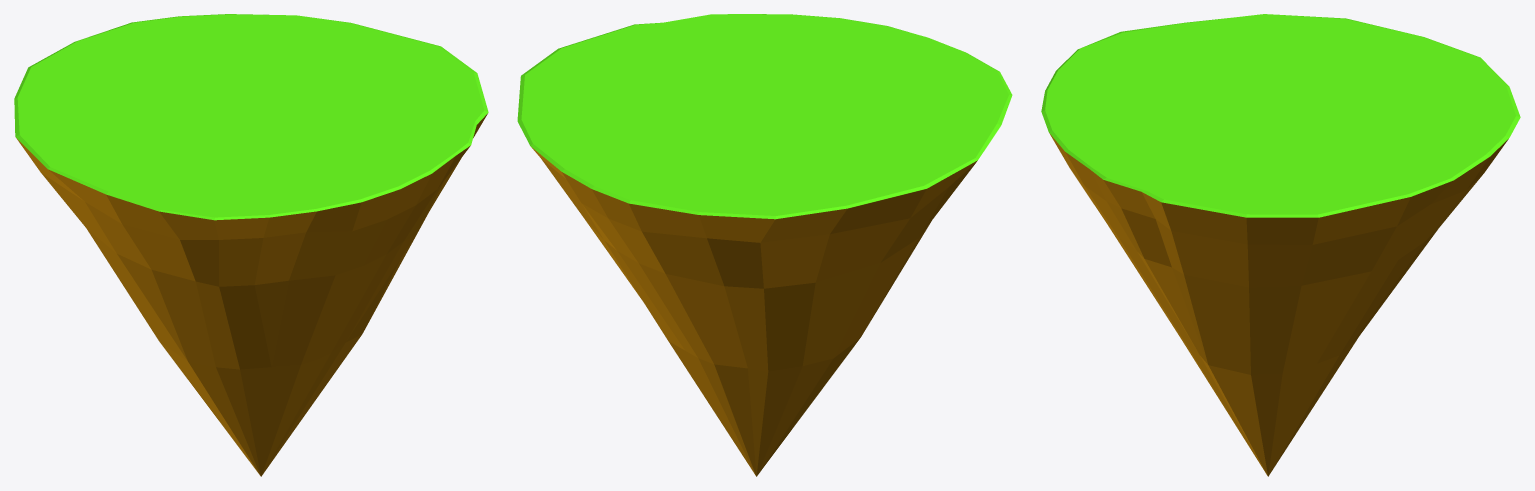
The model's file is island.glb.
The picture shows the model from 3 angles, left to right: view 1: azimuth 30°, elevation 25°; view 2: azimuth 150°, elevation 25°; view 3: azimuth 270°, elevation 25°; orthographic projection. The views are drawn at different scales.
Parts seen in each view (by area): view 1: Circle.003; view 2: Circle.003; view 3: Circle.003.
Boxes of the visible parts, box(x1,y1,x2,y2) form: Circle.003: box(14, 14, 488, 476); Circle.003: box(517, 14, 1012, 476); Circle.003: box(1041, 14, 1520, 476).
Bounding box in the file's own units: 83.39 × 68.77 × 82.98.
Materials: 1 (1 with a texture image).
